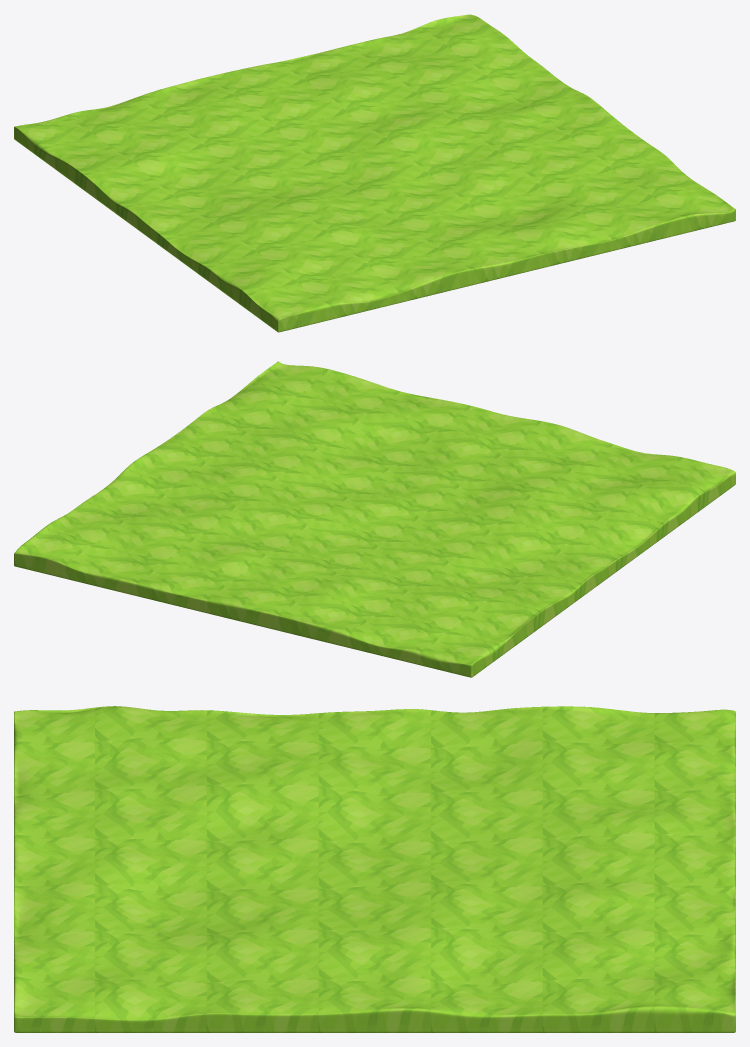
File: grass.gltf
The picture shows the model from 3 angles, top to bottom: view 1: azimuth 30°, elevation 25°; view 2: azimuth 150°, elevation 25°; view 3: azimuth 270°, elevation 25°; orthographic projection. The views are drawn at different scales.
Parts seen in each view (by area): view 1: grass; view 2: grass; view 3: grass.
Boxes of the visible parts, x1,y1,x2,y2 form: grass: (14,14,735,332); grass: (14,361,735,677); grass: (14,706,735,1032).
Bounding box in the file's own units: 300 × 11.78 × 300.
Materials: 1 (1 with a texture image).
